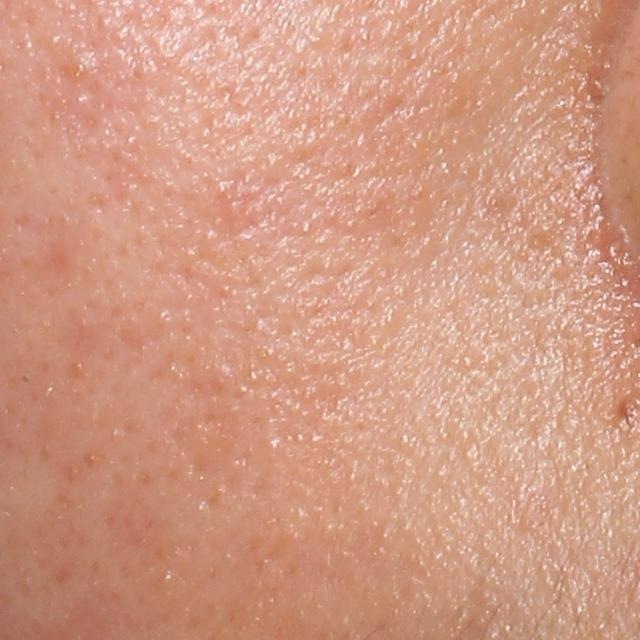nevus: (616, 399, 637, 425)
